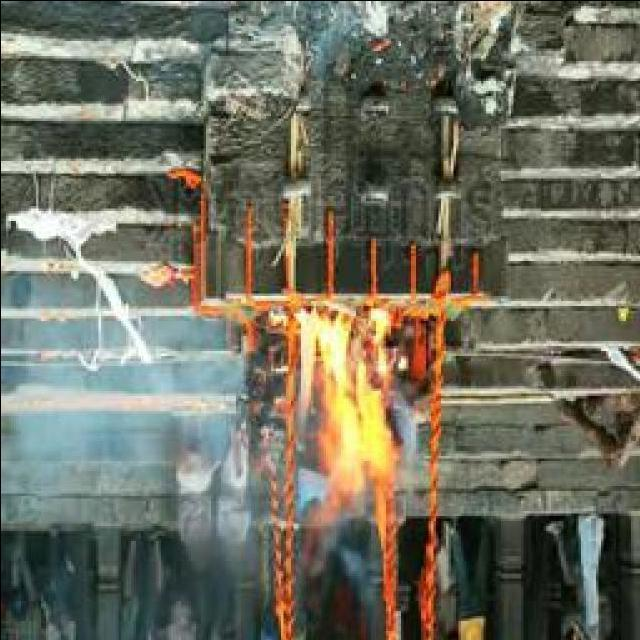Fire: (296, 304, 401, 508)
